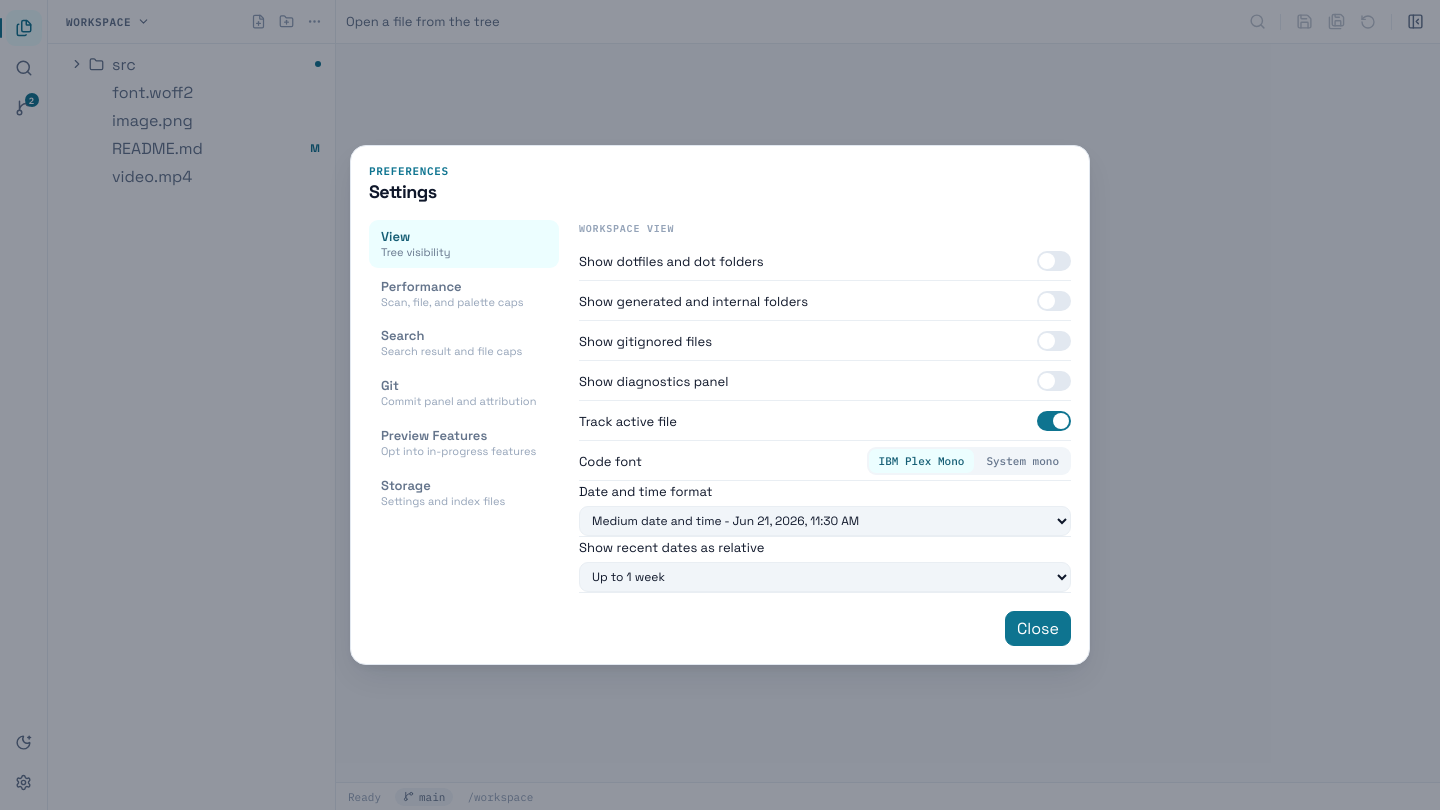
Test: App shell interactions › reloads the tree with dotfiles when changed from Settings
The image size is (1440, 810).
Expected: the list item "README.md" is shown, [64, 134, 327, 162]
Click the checkbox labelled "Show dotfiles and dot folders" at coordinates (1054, 261), box [1037, 251, 1071, 271]
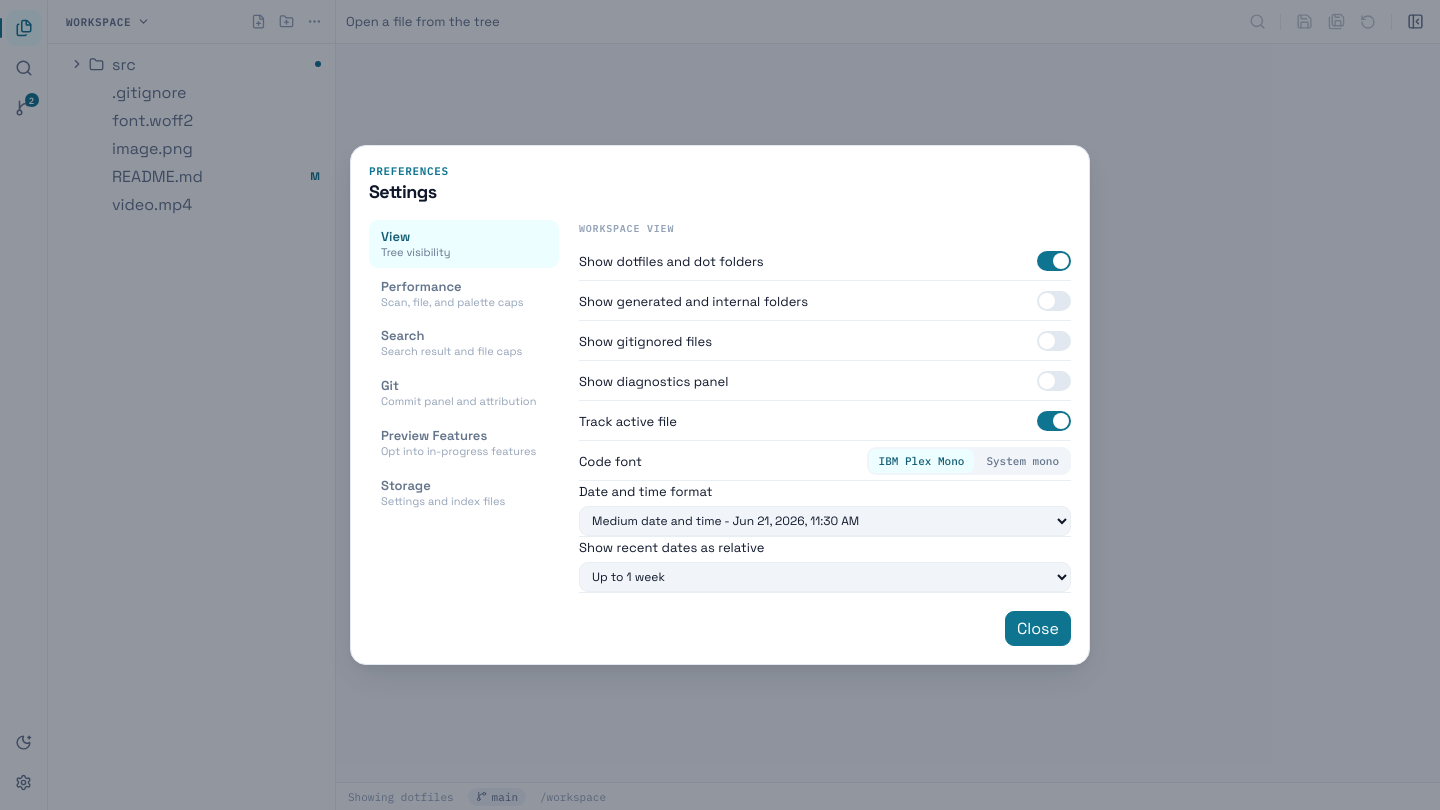
Expected: the list item ".gitignore" is shown, [64, 78, 327, 106]
